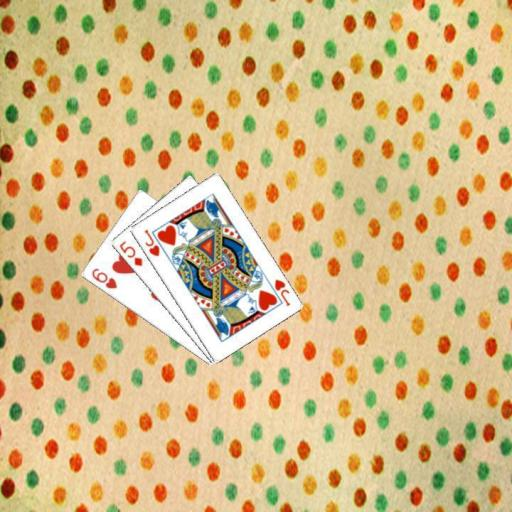card-corner: (116, 238, 144, 268), (88, 265, 118, 290), (141, 226, 161, 258), (271, 276, 291, 307)
